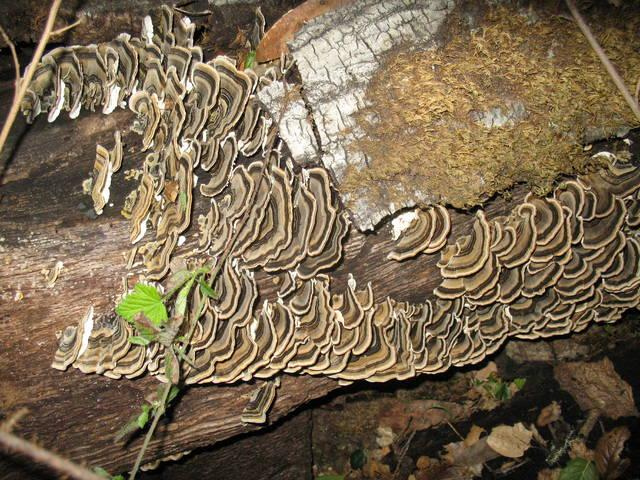poisonous_mushroom: (10, 2, 638, 425)
